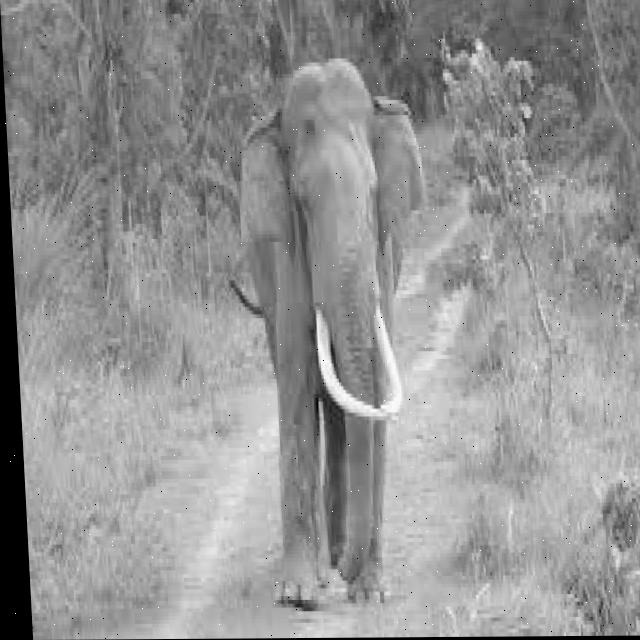Elephant: (217, 54, 447, 608)
